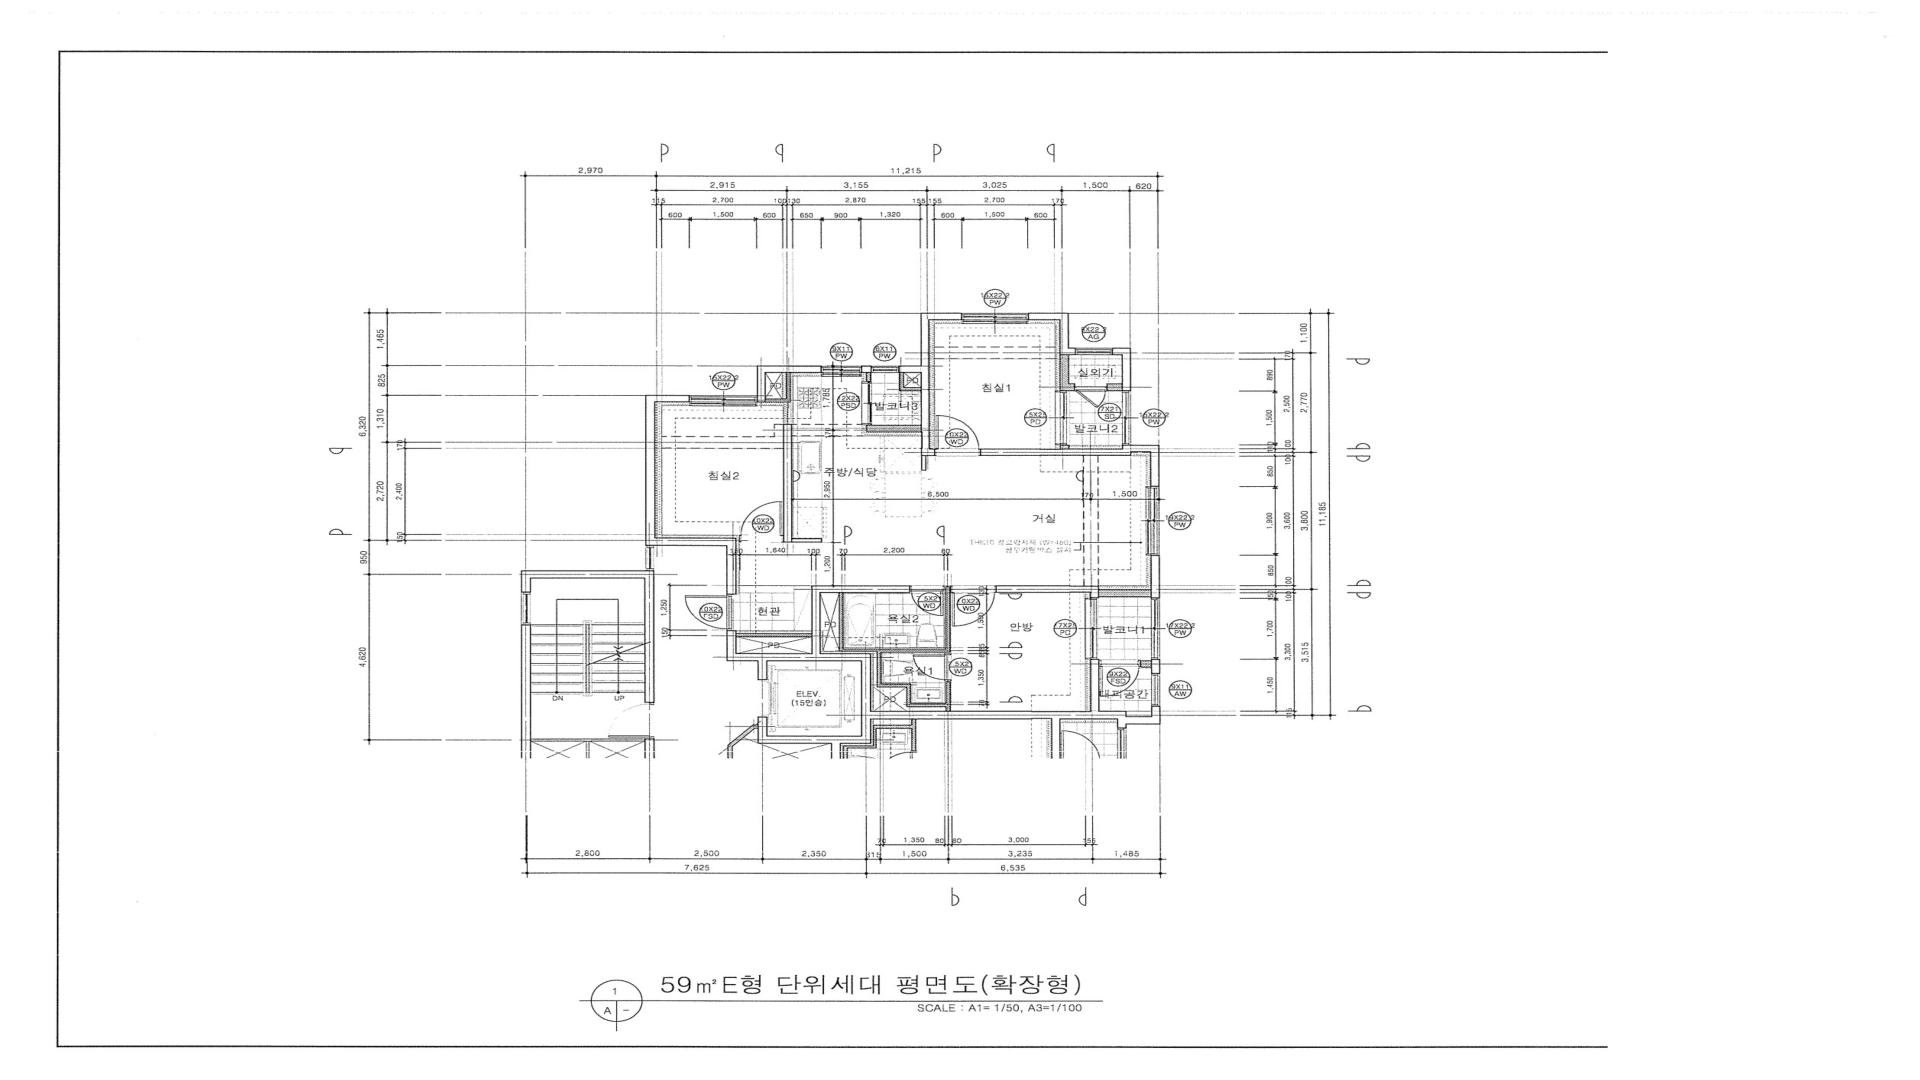door: (735, 500, 784, 542), (951, 585, 996, 627), (935, 415, 981, 456), (608, 702, 656, 738), (684, 594, 732, 630), (1099, 660, 1139, 699), (913, 652, 951, 681), (910, 585, 945, 616), (1076, 383, 1108, 410)
wall: (725, 585, 1159, 743), (645, 394, 736, 594), (520, 570, 656, 702), (840, 586, 951, 710), (766, 372, 822, 542), (900, 312, 962, 455), (980, 444, 1159, 486), (756, 365, 822, 402), (1029, 313, 1077, 355), (996, 585, 1149, 598), (520, 624, 531, 757), (1112, 348, 1131, 391), (1061, 355, 1076, 391), (1149, 555, 1159, 598), (900, 372, 922, 391), (866, 425, 922, 432), (736, 632, 812, 637), (646, 738, 656, 758), (1150, 659, 1159, 673), (1108, 383, 1122, 391), (863, 365, 874, 372), (1139, 660, 1150, 667), (922, 455, 927, 470), (866, 372, 872, 382), (1061, 445, 1071, 448)
window: (1145, 486, 1159, 555), (1055, 390, 1071, 445), (1085, 598, 1099, 659), (962, 312, 1029, 324), (690, 394, 756, 406), (1150, 598, 1159, 659), (822, 365, 863, 377), (1122, 391, 1131, 444), (861, 382, 872, 425), (520, 591, 531, 624), (1150, 673, 1159, 706), (1077, 348, 1112, 355), (645, 546, 654, 570), (873, 365, 900, 372)
